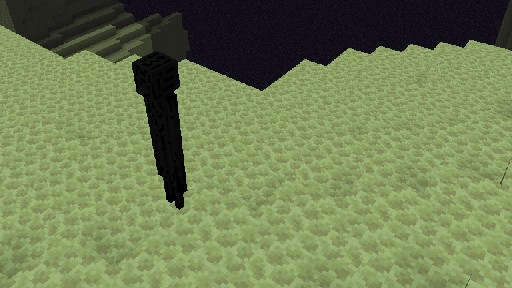enderman: (131, 49, 187, 212)
